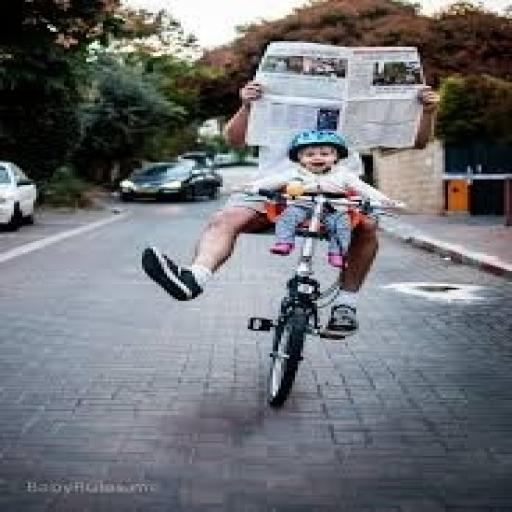cycling: (210, 32, 403, 422)
